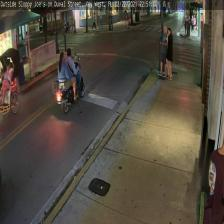person: (207, 134, 224, 222), (57, 52, 77, 97), (64, 47, 79, 96), (1, 62, 15, 104), (158, 25, 168, 77), (0, 61, 10, 98), (166, 28, 173, 80)
